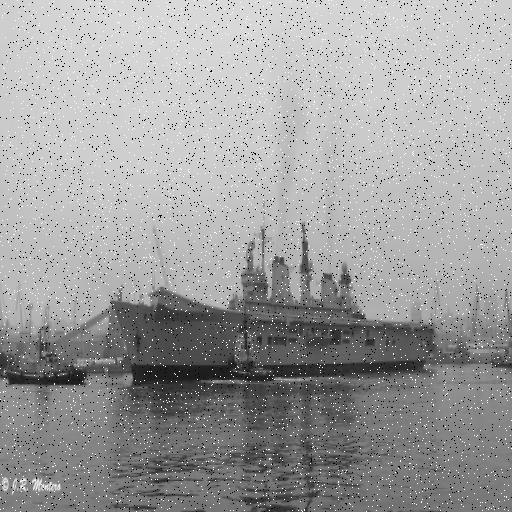Portanaves: (110, 204, 438, 385)
